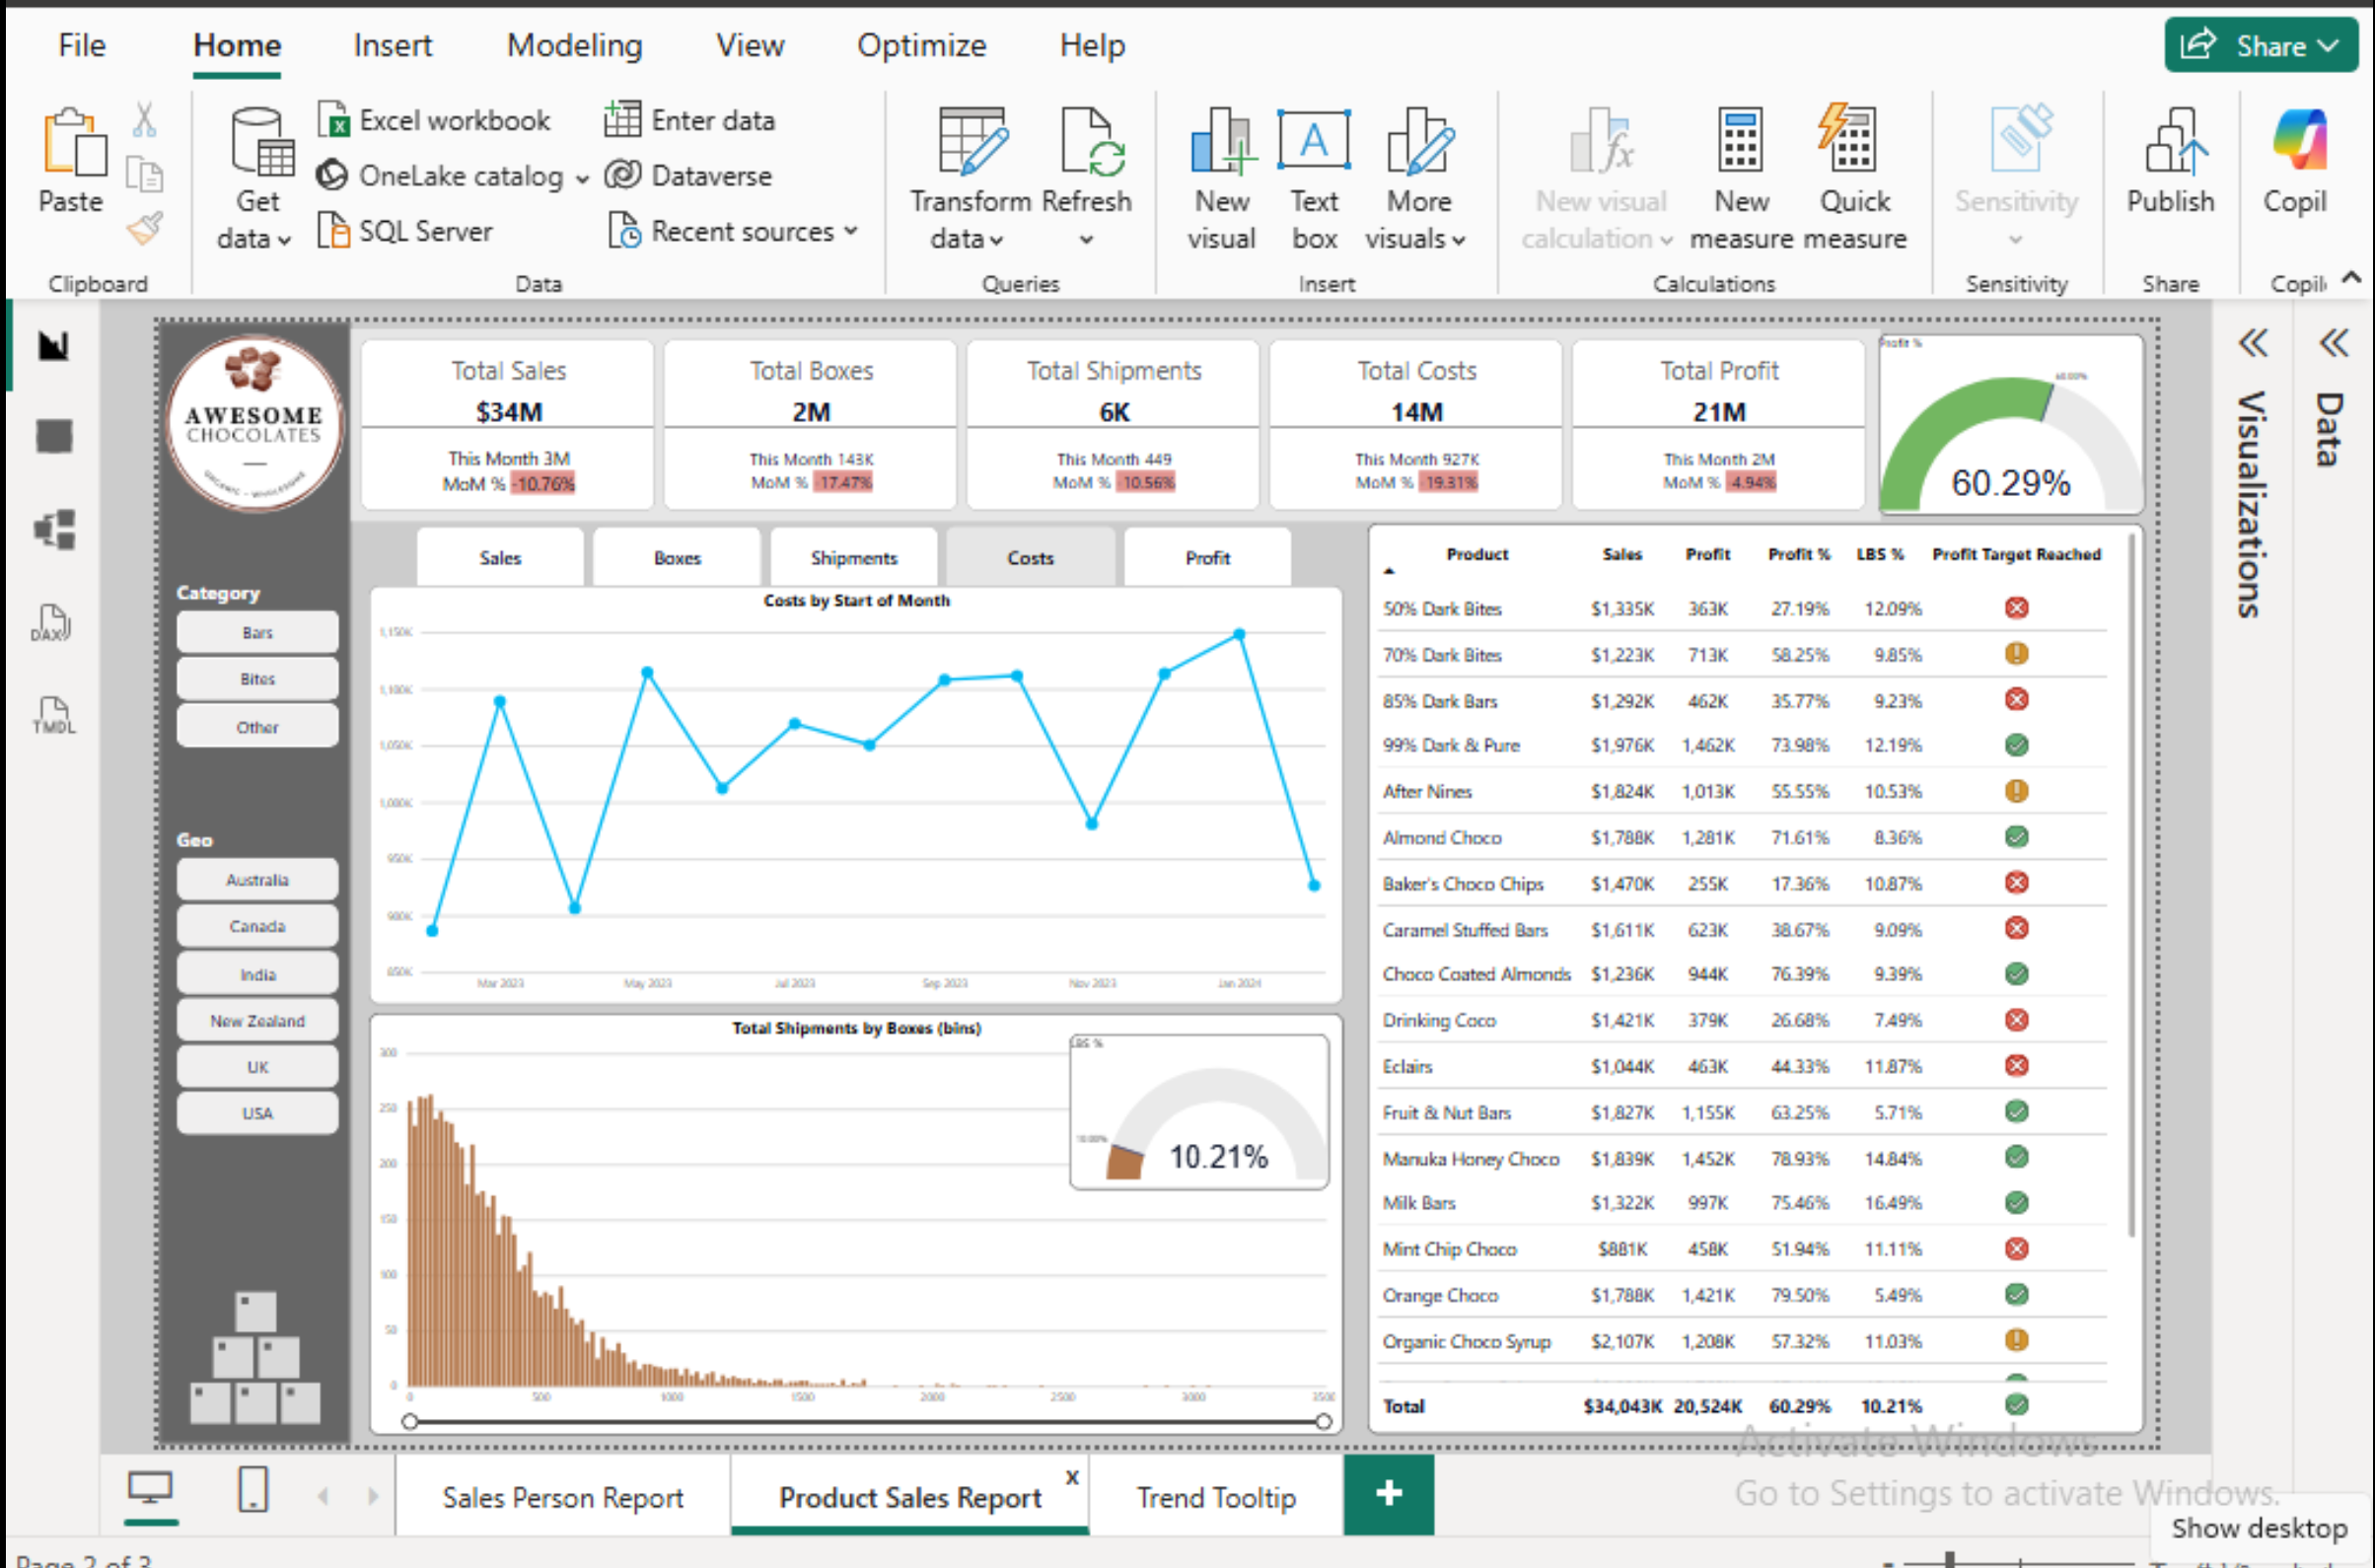

The page's visual inventory and layout, read from the dashboard file:
{"tool":"powerbi","page":{"name":"Product Sales Report","canvas":[1920,1080],"ordinal":1},"visuals":[{"type":"shape","box":[0,0,185.3,1079.4],"z":0},{"type":"image","box":[0,5.9,185.3,182.4],"z":1000},{"type":"cardVisual","fields":{"Data":["_Measure.Total Sales","_Measure.Total Boxes","_Measure.Total Shipments","_Measure.Total Costs","_Measure.Total Profit"]},"box":[185.3,5.9,1470.6,185],"z":2000},{"type":"gauge","fields":{"Y":["_Measure.Profit %"]},"box":[1654,11.8,255.9,175],"z":3000},{"type":"lineChart","fields":{"Y":["_Measure.Total Costs"],"Category":["calendar.Start of Month"]},"box":[202,253,937,402.9],"z":4000},{"type":"advancedSlicerVisual","fields":{"Values":["Measure Selector.Measure Selector"]},"box":[241.2,191.2,855.9,68],"z":5000},{"type":"columnChart","fields":{"Category":["shipments.Boxes (bins)"],"Y":["_Measure.Total Shipments"]},"box":[202.9,664.7,937,405.9],"z":6000},{"type":"tableEx","title":"Sales Person Details Table","fields":{"Values":["products.Product","_Measure.Total Sales","_Measure.Total Profit","_Measure.Profit %","_Measure.LBS %","_Measure.Profit Target Indicator"]},"box":[1163,193,747.1,876.5],"z":7000},{"type":"gauge","fields":{"Y":["_Measure.LBS %"]},"box":[876.5,685.3,250,150],"z":8000},{"type":"listSlicer","fields":{"Values":["products.Category"]},"box":[16.3,246.5,160.5,439.5],"z":9000},{"type":"listSlicer","fields":{"Values":["locations.Geo"]},"box":[16.3,483.7,160.5,439.5],"z":10000},{"type":"image","box":[0,908,185,172],"z":11000}]}

Visuals, with their boxes on the page's 1920x1080 design canvas (x1, y1, x2, y2). These are canvas units, not pixel positions in the 2375x1568 screenshot, which may show the page scaled, cropped or inside an application window:
shape: bbox=(0, 0, 185, 1079)
image: bbox=(0, 6, 185, 188)
cardVisual - _Measure.Total Sales x _Measure.Total Boxes: bbox=(185, 6, 1656, 191)
gauge - _Measure.Profit %: bbox=(1654, 12, 1910, 187)
lineChart - _Measure.Total Costs x calendar.Start of Month: bbox=(202, 253, 1139, 656)
advancedSlicerVisual - Measure Selector.Measure Selector: bbox=(241, 191, 1097, 259)
columnChart - shipments.Boxes (bins) x _Measure.Total Shipments: bbox=(203, 665, 1140, 1071)
"Sales Person Details Table" tableEx: bbox=(1163, 193, 1910, 1070)
gauge - _Measure.LBS %: bbox=(876, 685, 1126, 835)
listSlicer - products.Category: bbox=(16, 246, 177, 686)
listSlicer - locations.Geo: bbox=(16, 484, 177, 923)
image: bbox=(0, 908, 185, 1080)
